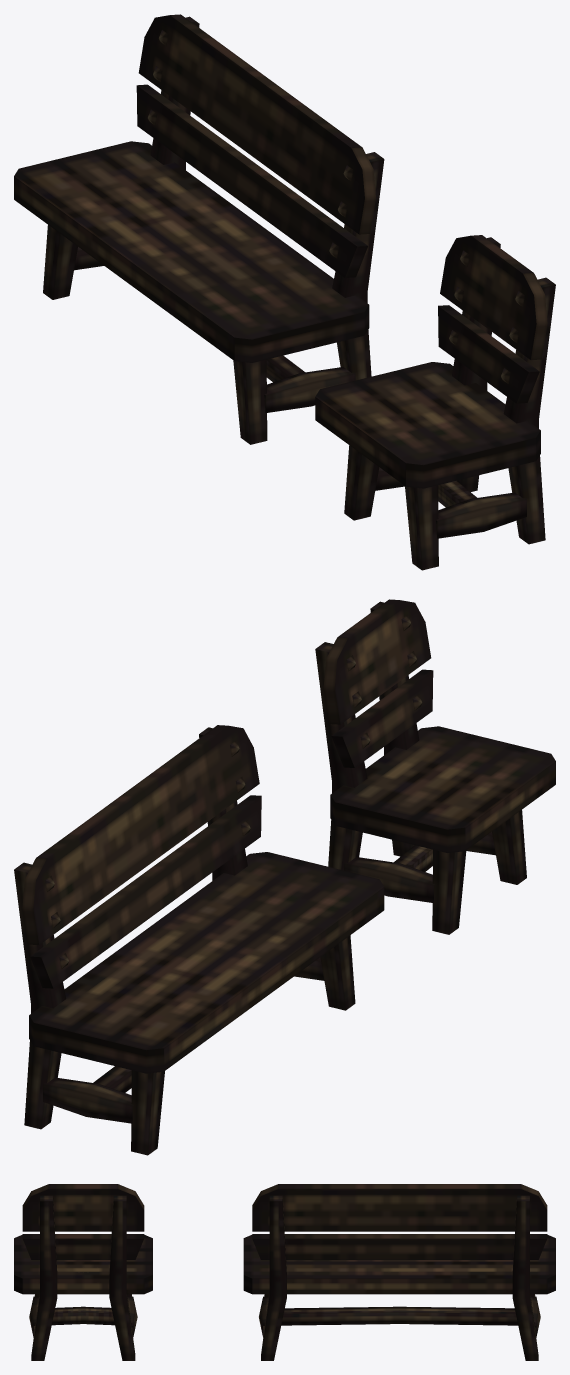
File: EnvObjMD_Chair_Bench_A_M.FBX
3 views of the same model, one above another, from view 1: azimuth 30°, elevation 25°; view 2: azimuth 150°, elevation 25°; view 3: azimuth 270°, elevation 25° (orthographic). The views are drawn at different scales.
Parts seen in each view (by area): view 1: EnvObjMD_Chair_Bench_A_M, EnvObjMD_Chair_Bench_A_S; view 2: EnvObjMD_Chair_Bench_A_M, EnvObjMD_Chair_Bench_A_S; view 3: EnvObjMD_Chair_Bench_A_M, EnvObjMD_Chair_Bench_A_S.
Boxes of the visible parts, bbox=[...] form: EnvObjMD_Chair_Bench_A_M: bbox=[14, 14, 384, 444]; EnvObjMD_Chair_Bench_A_S: bbox=[315, 235, 555, 570]; EnvObjMD_Chair_Bench_A_M: bbox=[14, 725, 384, 1155]; EnvObjMD_Chair_Bench_A_S: bbox=[315, 599, 555, 934]; EnvObjMD_Chair_Bench_A_M: bbox=[243, 1184, 555, 1360]; EnvObjMD_Chair_Bench_A_S: bbox=[14, 1184, 152, 1360].
Size of the model in its own units: 72.5 by 110 by 312.
1 material, 1 textured.
